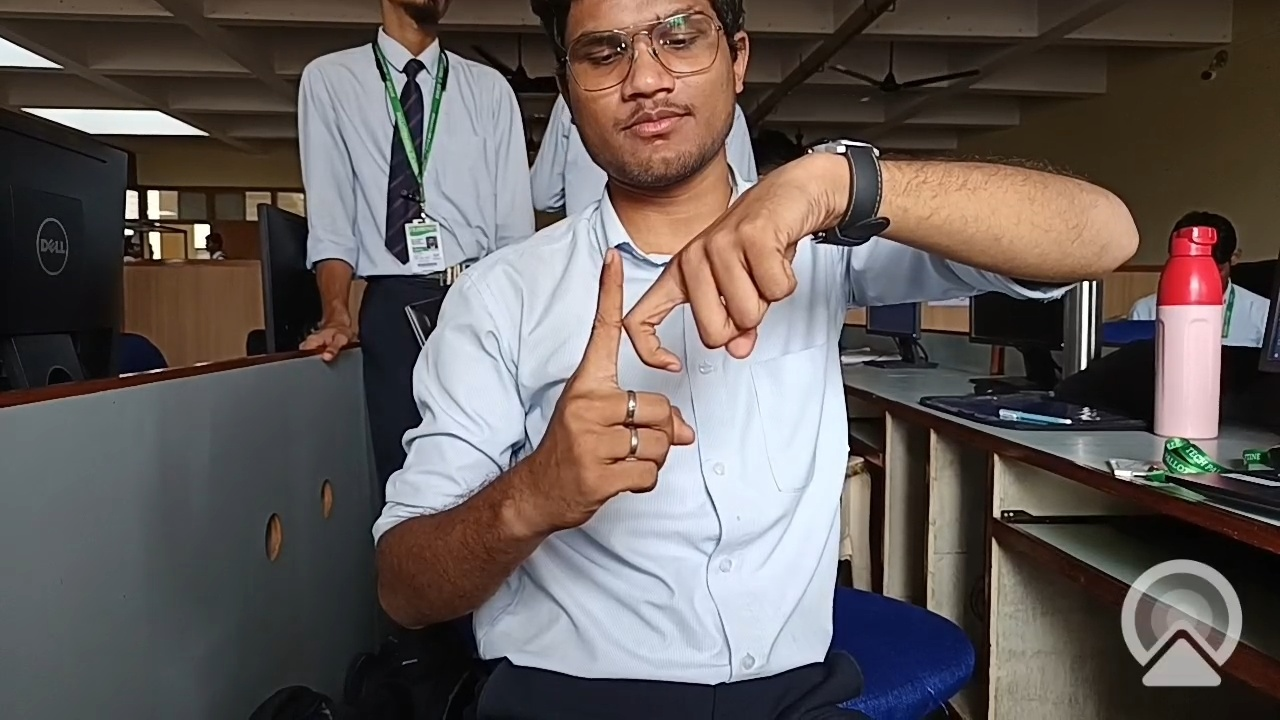K: (489, 165, 869, 575)
